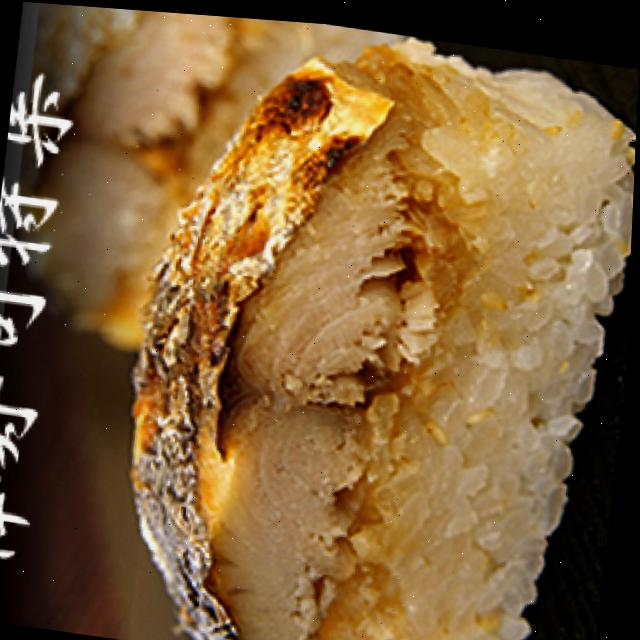寿司卷物: (183, 12, 640, 640)
